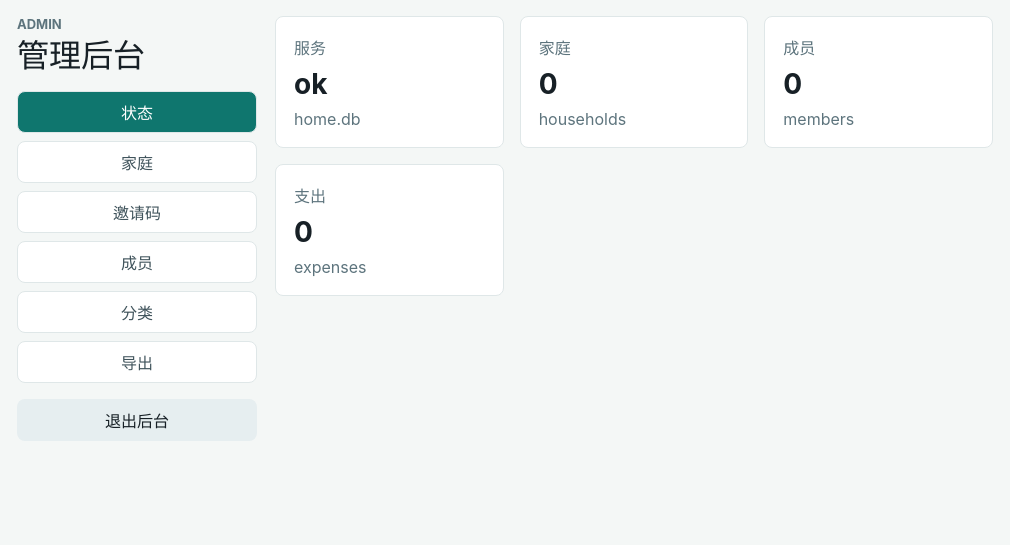
it: admin public entry › returns to the login panel when an authenticated admin action gets a current-token 401
expect the navigation bar named "后台导航" is shown: met, box [17,91,257,383]
Click the button "家庭": point(137, 162) [17,141,257,183]
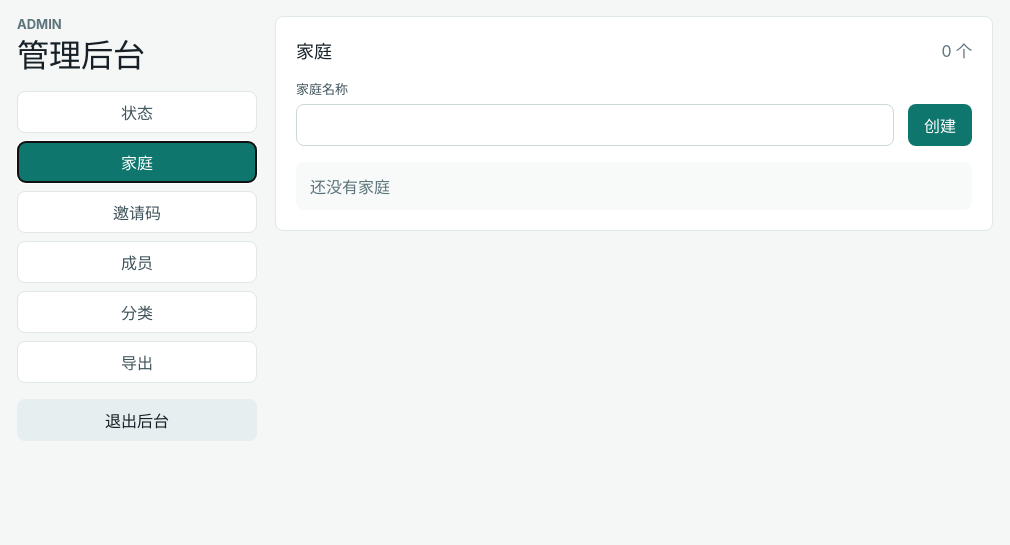
In the field labelled "家庭名称": point(595, 125) [296,104,894,146], type "新家庭"
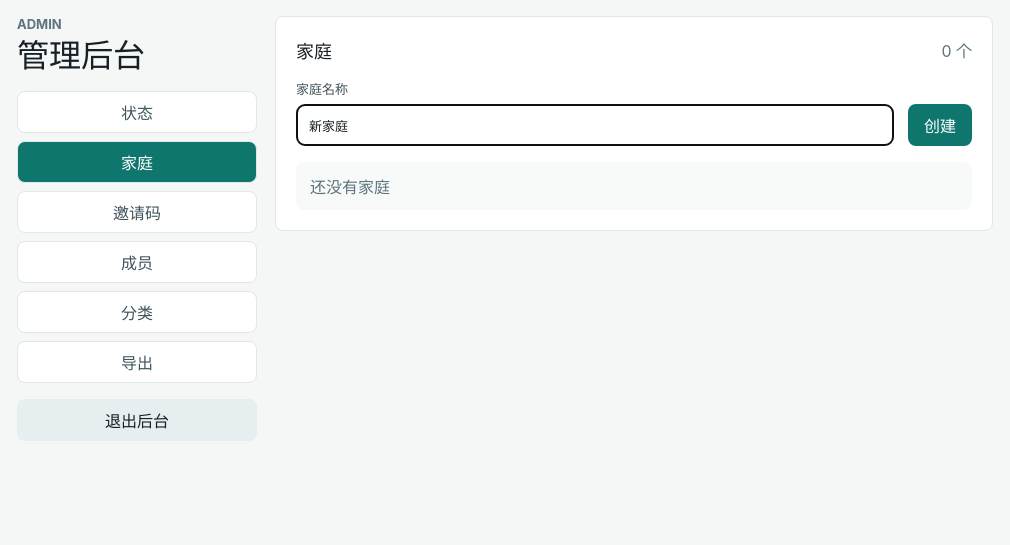
Click the button "创建": point(940, 125) [908,104,972,146]
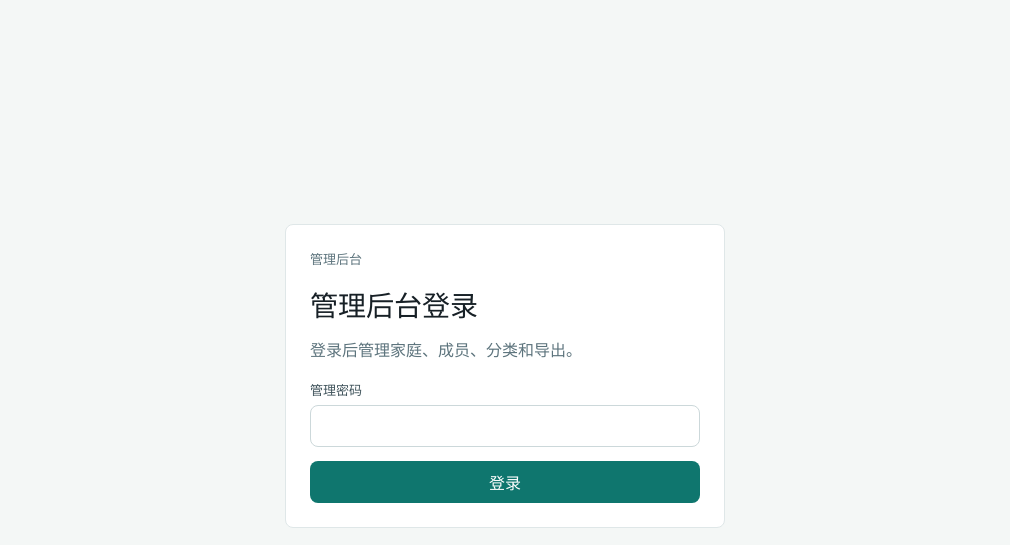
expect the heading "管理后台登录" is shown: met, box [310,289,478,323]
expect the navigation bar "后台导航" is gone: met
